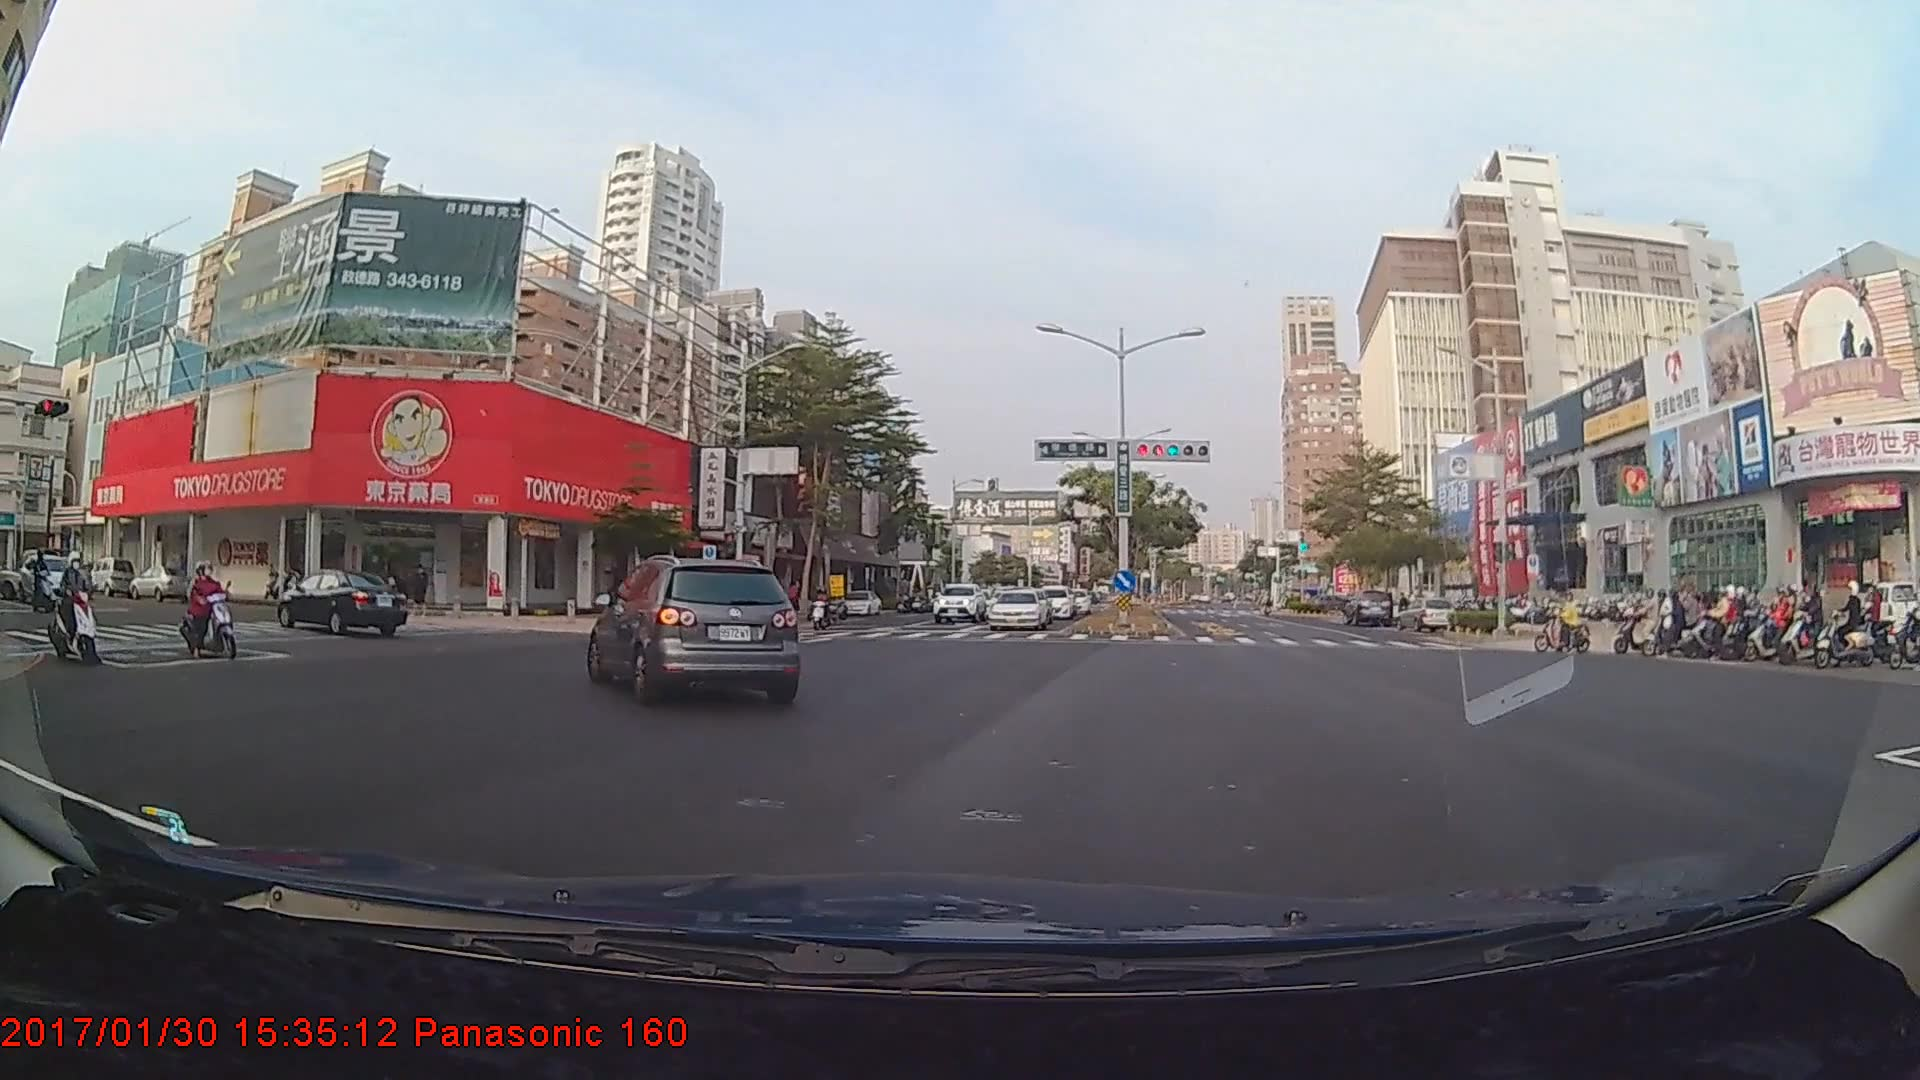rider: (43, 555, 103, 665), (174, 561, 238, 662), (1733, 584, 1799, 662), (1625, 596, 1700, 657), (1682, 586, 1743, 660), (1531, 585, 1592, 654), (1771, 584, 1825, 659), (1685, 593, 1735, 659)
vehicle: (588, 556, 798, 704), (276, 569, 408, 637), (20, 554, 80, 606), (985, 588, 1048, 630), (929, 581, 986, 624), (39, 556, 95, 593), (1340, 588, 1390, 626), (1034, 585, 1071, 617), (839, 588, 879, 615)
